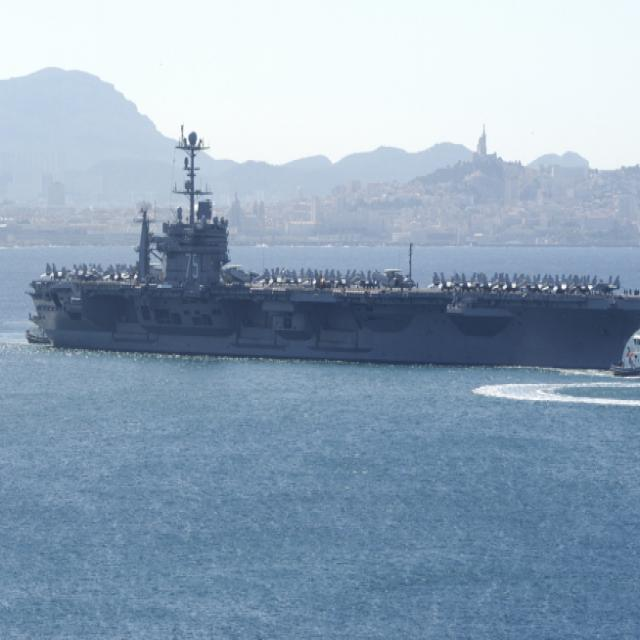Portanaves: (20, 117, 640, 377)
